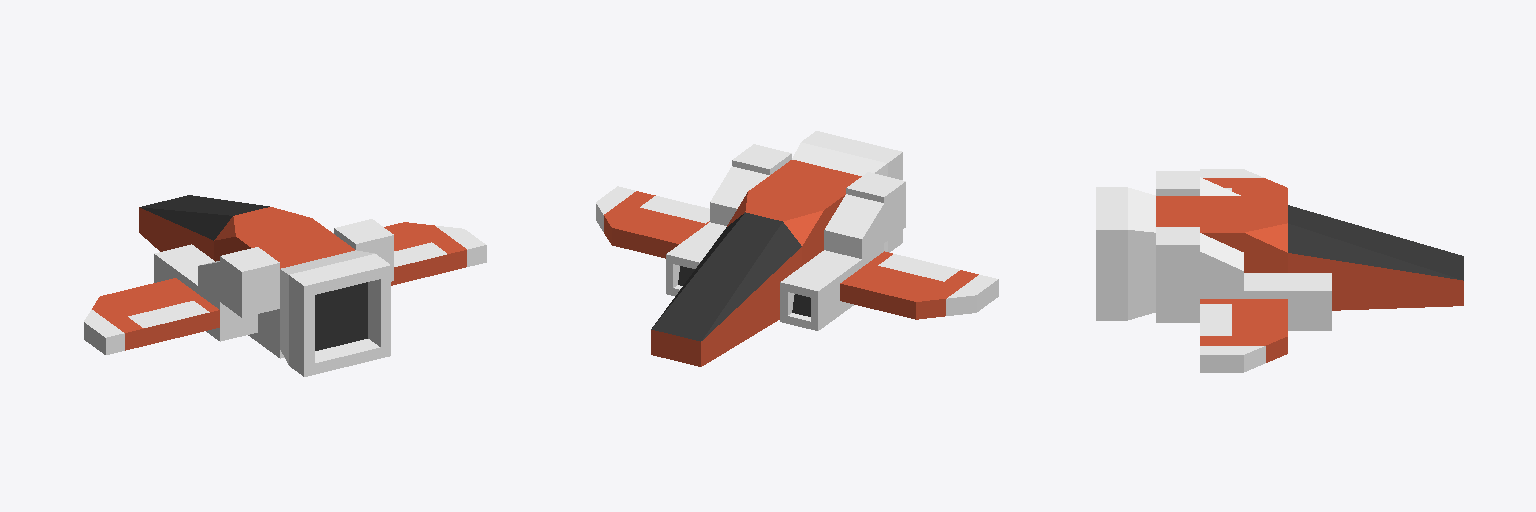
File: spaceCraft1.obj
The picture shows the model from 3 angles: view 1: azimuth 30°, elevation 25°; view 2: azimuth 150°, elevation 25°; view 3: azimuth 270°, elevation 25°; orthographic projection.
Parts seen in each view (by area): view 1: spaceCraft1; view 2: spaceCraft1; view 3: spaceCraft1.
Part boxes in pixels (bbox=[...]): spaceCraft1: bbox=[84, 195, 486, 376]; spaceCraft1: bbox=[596, 131, 998, 366]; spaceCraft1: bbox=[1096, 169, 1463, 372].
Size of the model in its own units: 19.75 by 4.75 by 16.5.